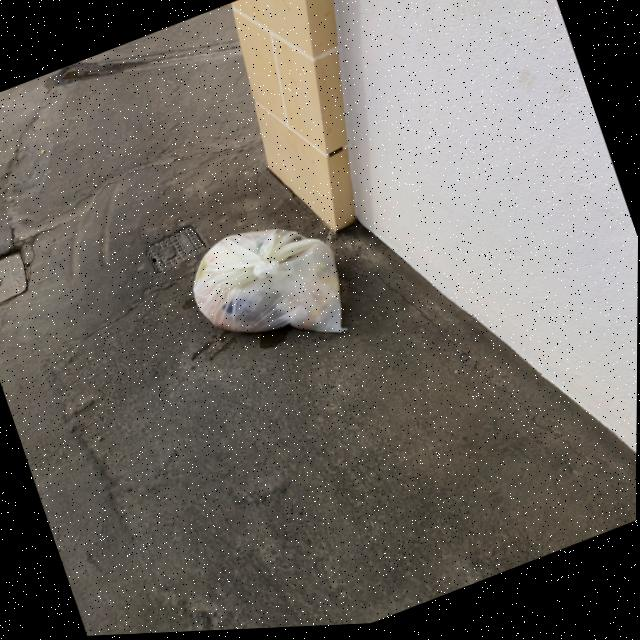Organic Waste -White Bag-: (176, 203, 363, 388)
